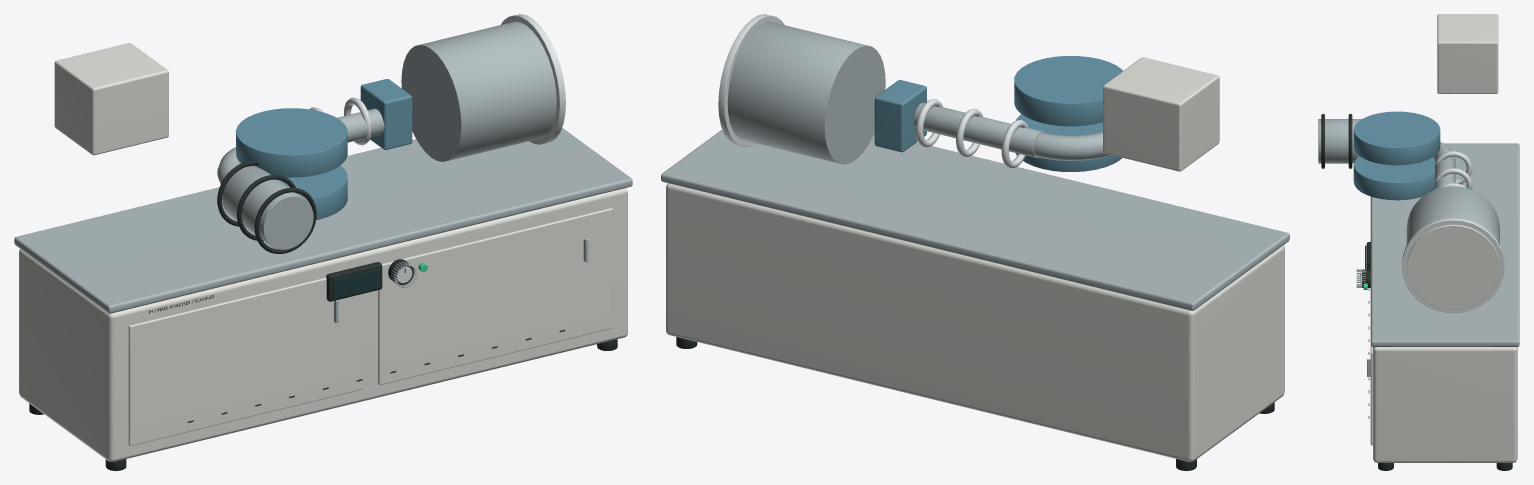
The model's file is implant.glb.
The picture shows the model from 3 angles, left to right: view 1: azimuth 30°, elevation 25°; view 2: azimuth 150°, elevation 25°; view 3: azimuth 270°, elevation 25°; orthographic projection. The views are drawn at different scales.
Visible parts, largest first — view 1: Equipment_implant_Ceramic ivory, Equipment_implant_Brushed stainless, Shell.006_Brushed stainless, Equipment_implant_Process ceramic, Equipment_implant_Knurled graphite, Equipment_implant_Machined aluminium, LCD.014; view 2: Equipment_implant_Ceramic ivory, Equipment_implant_Brushed stainless, Shell.006_Brushed stainless, Equipment_implant_Process ceramic, Equipment_implant_Machined aluminium, Curved analyser duct; view 3: Equipment_implant_Ceramic ivory, Equipment_implant_Brushed stainless, Equipment_implant_Process ceramic, Door.010_Ceramic ivory, Shell.006_Brushed stainless, Equipment_implant_Machined aluminium, Equipment_implant_Knurled graphite.
Boxes of the visible parts, bbox=[...] form: Equipment_implant_Ceramic ivory: bbox=[19, 43, 627, 461]; Equipment_implant_Brushed stainless: bbox=[14, 108, 632, 322]; Shell.006_Brushed stainless: bbox=[401, 21, 556, 161]; Equipment_implant_Process ceramic: bbox=[236, 79, 412, 219]; Equipment_implant_Knurled graphite: bbox=[29, 160, 617, 470]; Equipment_implant_Machined aluminium: bbox=[309, 14, 565, 283]; LCD.014: bbox=[333, 268, 380, 298]; Equipment_implant_Ceramic ivory: bbox=[666, 57, 1284, 461]; Equipment_implant_Brushed stainless: bbox=[661, 102, 1289, 310]; Shell.006_Brushed stainless: bbox=[727, 21, 885, 164]; Equipment_implant_Process ceramic: bbox=[874, 56, 1122, 171]; Equipment_implant_Machined aluminium: bbox=[718, 14, 1028, 168]; Curved analyser duct: bbox=[1034, 132, 1110, 160]; Equipment_implant_Ceramic ivory: bbox=[1370, 14, 1517, 462]; Equipment_implant_Brushed stainless: bbox=[1318, 119, 1519, 376]; Equipment_implant_Process ceramic: bbox=[1353, 111, 1472, 200]; Door.010_Ceramic ivory: bbox=[1406, 224, 1499, 309]; Shell.006_Brushed stainless: bbox=[1406, 186, 1499, 244]; Equipment_implant_Machined aluminium: bbox=[1360, 151, 1504, 313]; Equipment_implant_Knurled graphite: bbox=[1321, 114, 1512, 470].
Size of the model in its own units: 2.92 by 1.87 by 1.25.
